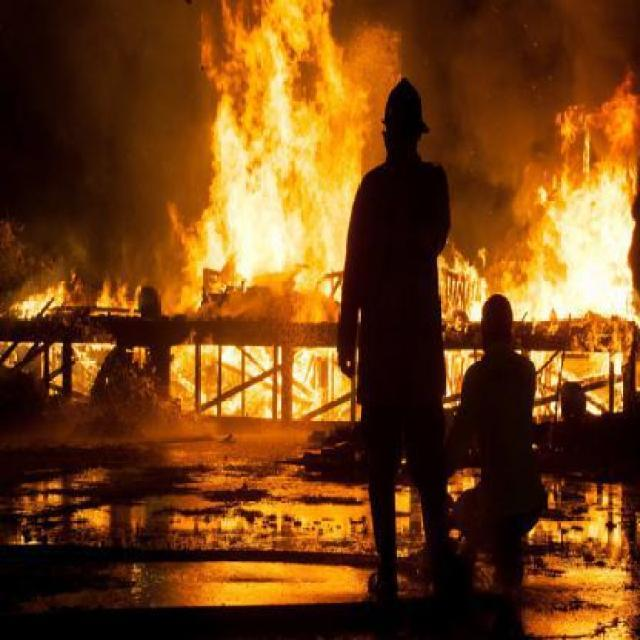Fire: (162, 0, 400, 322), (499, 69, 640, 428), (170, 342, 361, 420), (554, 188, 631, 314), (4, 270, 144, 322), (438, 242, 484, 328), (230, 192, 262, 276), (47, 343, 110, 380)
